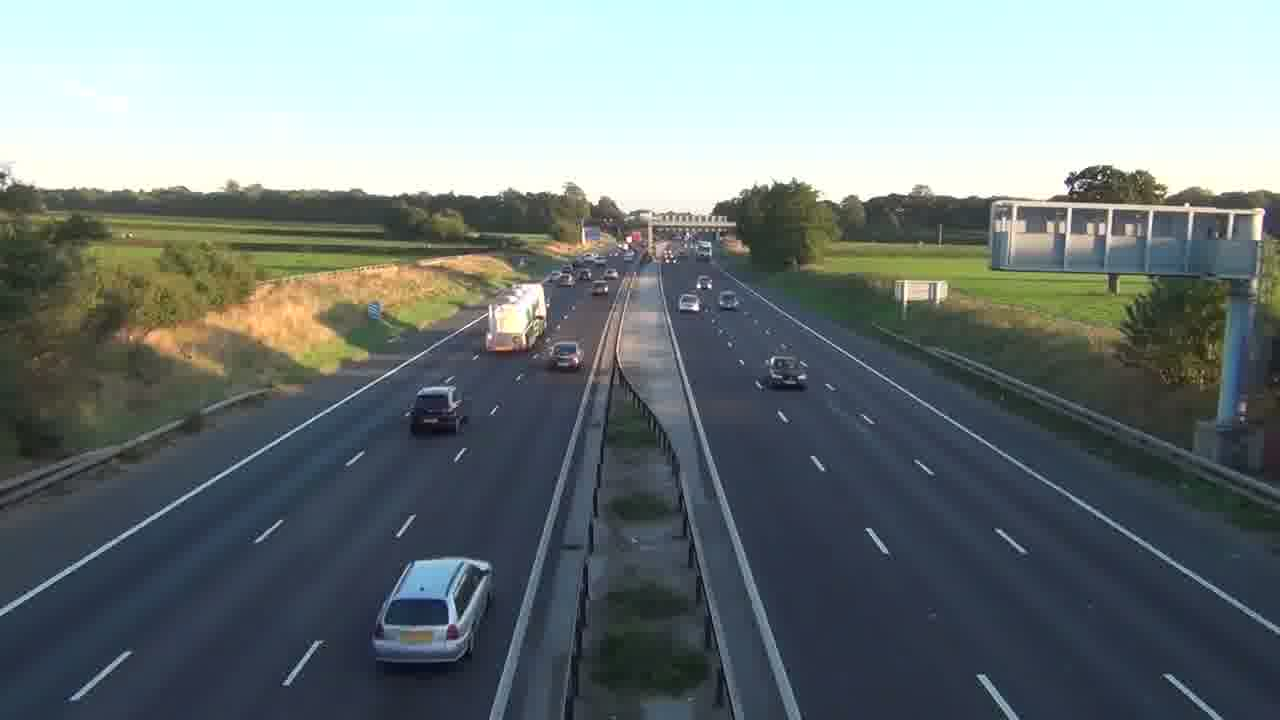car: (370, 556, 495, 665), (410, 384, 468, 435), (764, 355, 809, 390), (551, 340, 584, 370), (678, 291, 702, 312), (718, 290, 739, 310)
truck: (485, 284, 546, 354)
